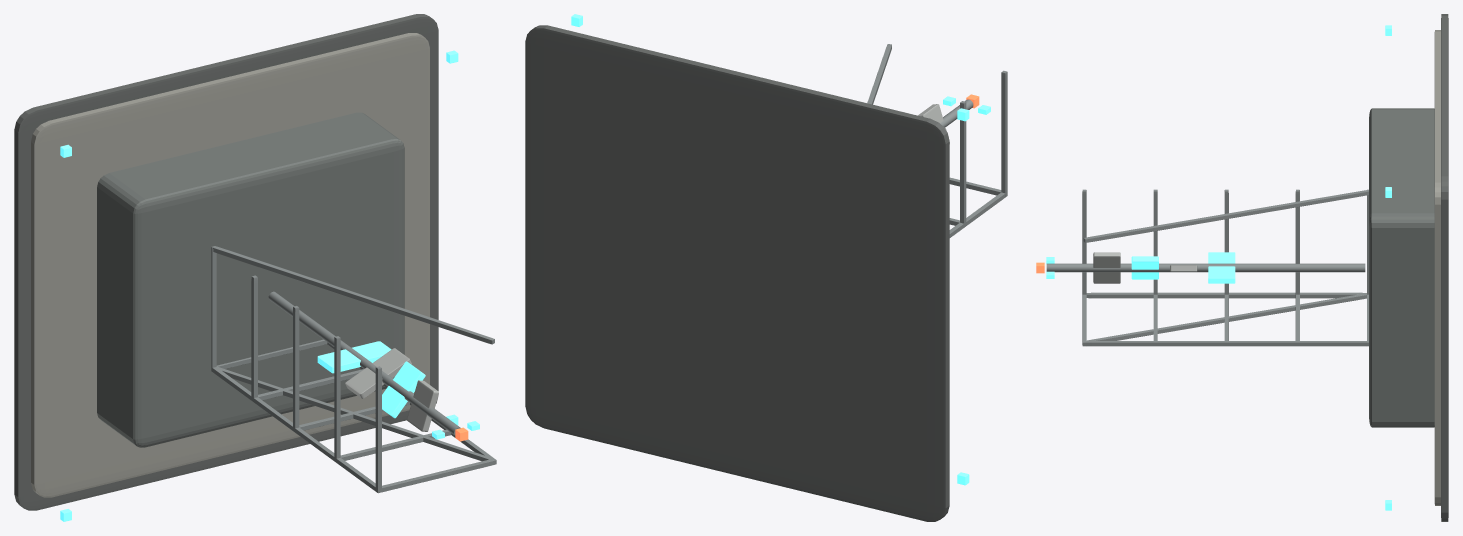
Rendered from b-23-sensor-tower-lod2.glb.
3 renders of one model, left to right at view 1: azimuth 30°, elevation 25°; view 2: azimuth 150°, elevation 25°; view 3: azimuth 270°, elevation 25°, orthographic. The views are drawn at different scales.
Parts seen in each view (by area): view 1: bunker_main, foundation_inner_pad, foundation, sensor_tower_frame_brace_a_1.5, tower_main_sensor_main, sensor_tower_frame_brace_a_-1.5, sensor_tower_frame_column_w_s, tower_main_sensor_array_1, tower_main_sensor_array_2, tower_main_sensor_array_0, tower_main_sensor_array_3, sensor_tower_frame_beam_y_4_w (+8 smaller); view 2: foundation, sensor_tower_frame_beam_y_4_w, sensor_tower_frame_beam_y_3_w; view 3: bunker_main, foundation, foundation_inner_pad, tower_main_sensor_main, sensor_tower_frame_column_w_s, sensor_tower_frame_brace_a_1.5, sensor_tower_frame_column_e_s, sensor_tower_frame_brace_a_-1.5, tower_main_sensor_array_0, tower_main_sensor_array_3, tower_main_sensor_array_2, sensor_tower_frame_beam_y_4_w.
Boxes of the visible parts, x1,y1,x2,y2 form: bunker_main: [97, 112, 404, 447]; foundation_inner_pad: [31, 33, 429, 497]; foundation: [14, 14, 438, 510]; sensor_tower_frame_brace_a_1.5: [213, 246, 494, 344]; tower_main_sensor_main: [268, 291, 460, 435]; sensor_tower_frame_brace_a_-1.5: [216, 366, 490, 461]; sensor_tower_frame_column_w_s: [212, 367, 375, 491]; tower_main_sensor_array_1: [345, 348, 411, 398]; tower_main_sensor_array_2: [382, 361, 425, 418]; tower_main_sensor_array_0: [317, 341, 391, 373]; tower_main_sensor_array_3: [407, 380, 438, 431]; sensor_tower_frame_beam_y_4_w: [375, 366, 381, 493]; foundation: [525, 25, 949, 521]; sensor_tower_frame_beam_y_4_w: [1001, 70, 1007, 194]; sensor_tower_frame_beam_y_3_w: [960, 101, 966, 223]; bunker_main: [1369, 108, 1434, 427]; foundation: [1441, 14, 1448, 521]; foundation_inner_pad: [1434, 30, 1440, 505]; tower_main_sensor_main: [1046, 263, 1365, 272]; sensor_tower_frame_column_w_s: [1086, 292, 1366, 298]; sensor_tower_frame_brace_a_1.5: [1083, 190, 1368, 242]; sensor_tower_frame_column_e_s: [1086, 341, 1367, 346]; sensor_tower_frame_brace_a_-1.5: [1087, 294, 1366, 341]; tower_main_sensor_array_0: [1208, 252, 1235, 283]; tower_main_sensor_array_3: [1093, 252, 1120, 283]; tower_main_sensor_array_2: [1131, 256, 1158, 279]; sensor_tower_frame_beam_y_4_w: [1082, 189, 1086, 294].
Size of what is drawn, in the model's own units: 11 by 10 by 10.87.
